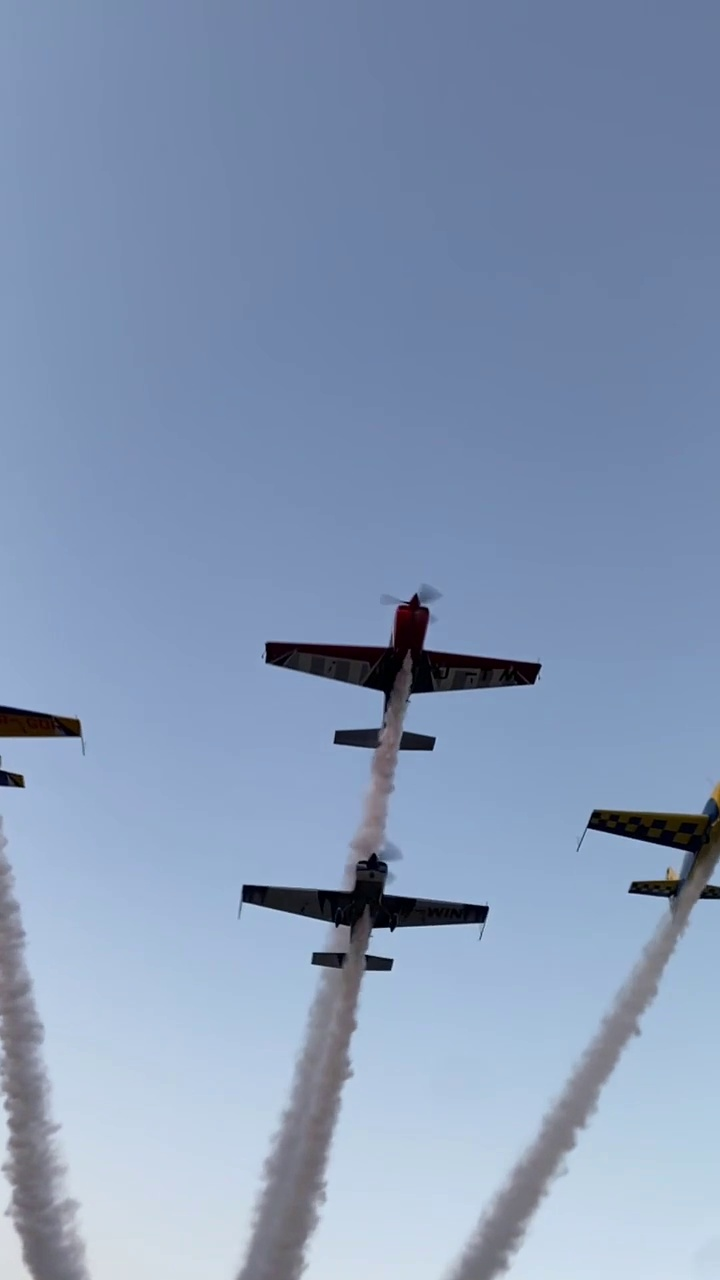plane: (261, 588, 542, 747), (239, 836, 491, 973), (578, 772, 720, 904), (1, 677, 86, 789)
